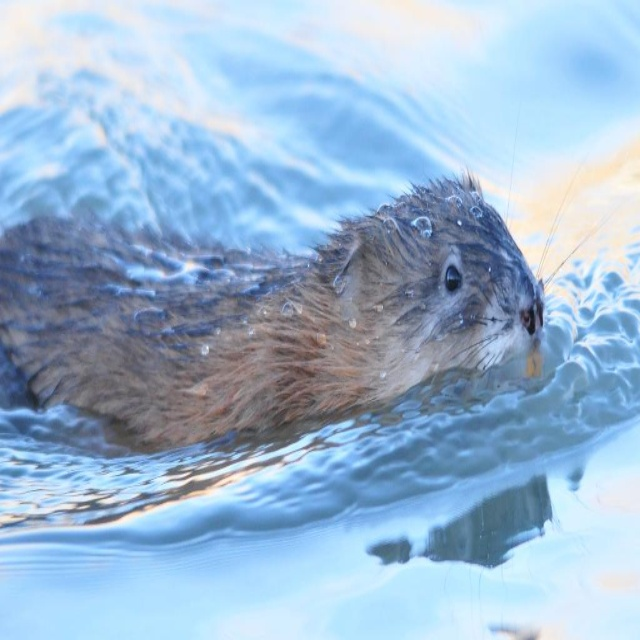Otter: (0, 97, 630, 447)
